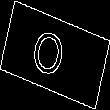O_S: (35, 24, 75, 86)
